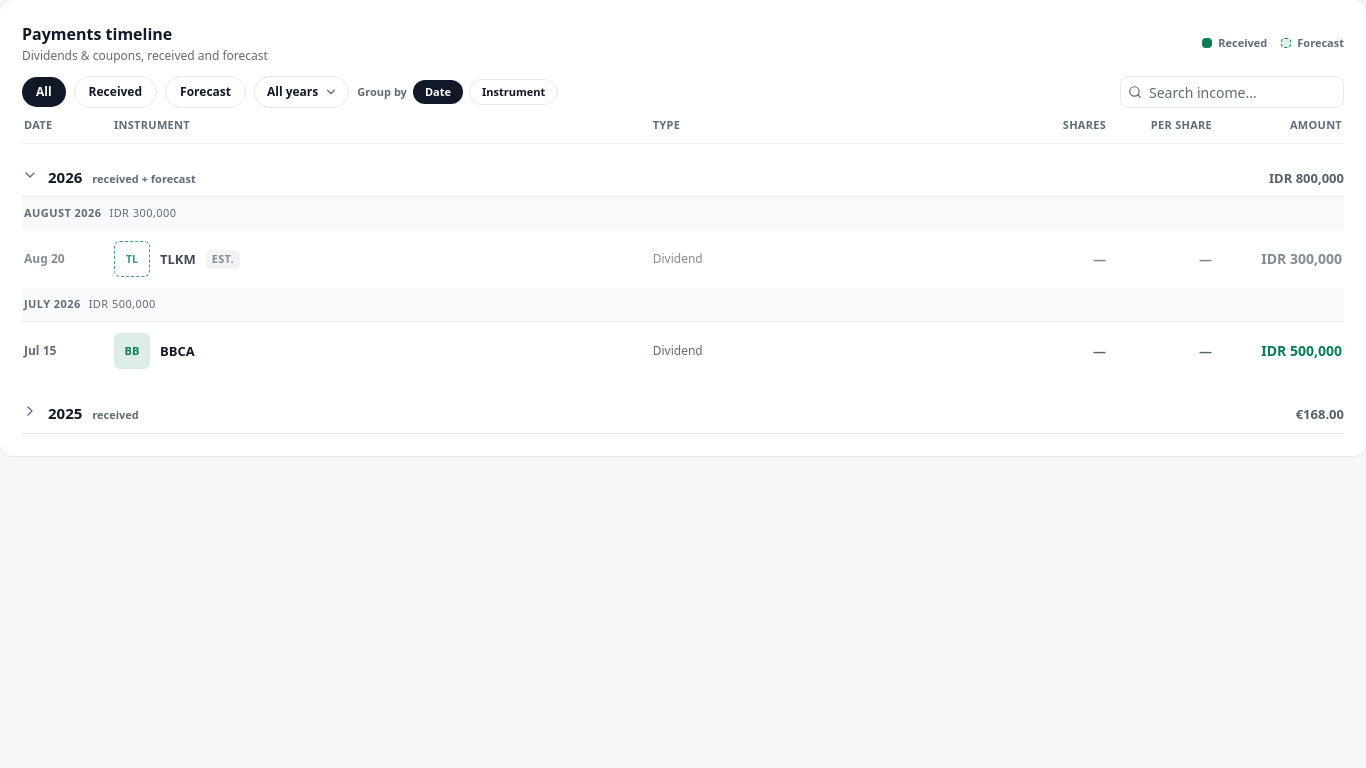
Scenario: IncomeTimeline › groups rows by year, newest first, under the 'All' chip by default
# 2025 is collapsed by default — expand it to see its rows
Click the text "2025" at [65, 413], box [48,402,82,424]
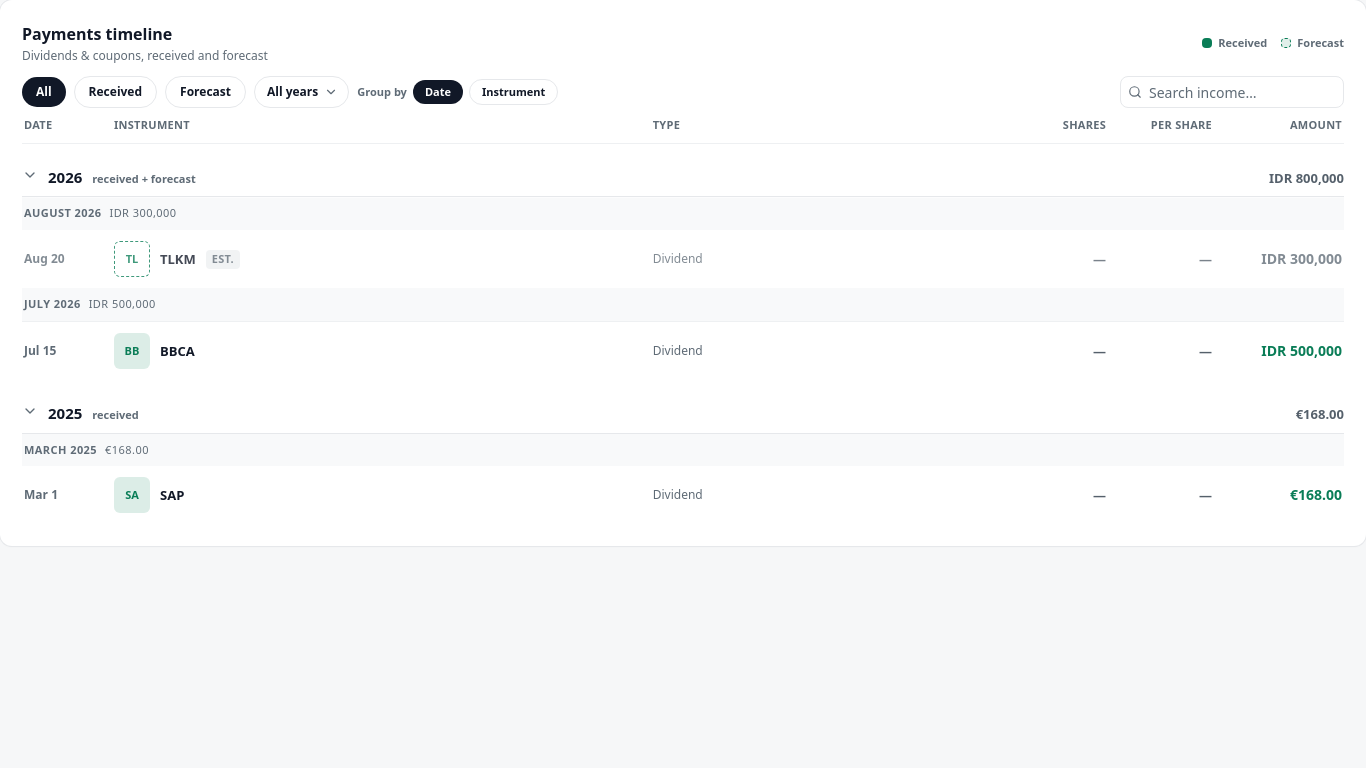
Expected: the text "BBCA" is shown, [160,342,195,360]
Expected: the text "SAP" is shown, [160,486,184,505]
